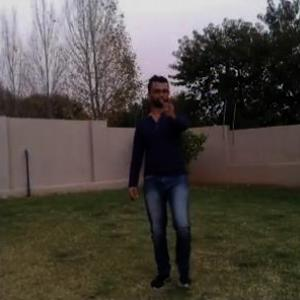takeoff-hand: (156, 88, 184, 123)
